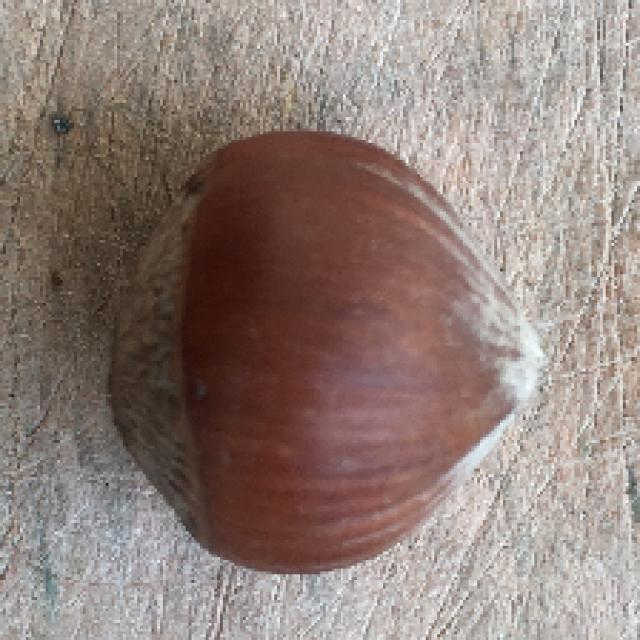damagedHazelnut: (108, 124, 550, 577)
